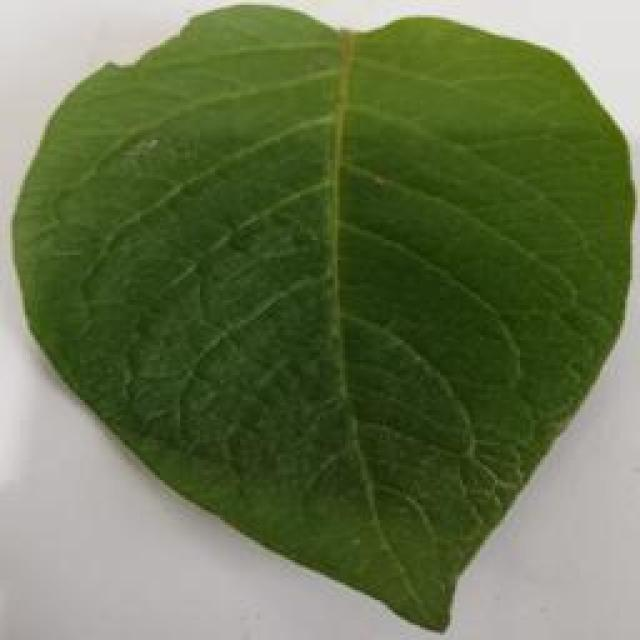Potato_Healthy: (5, 10, 634, 636)
